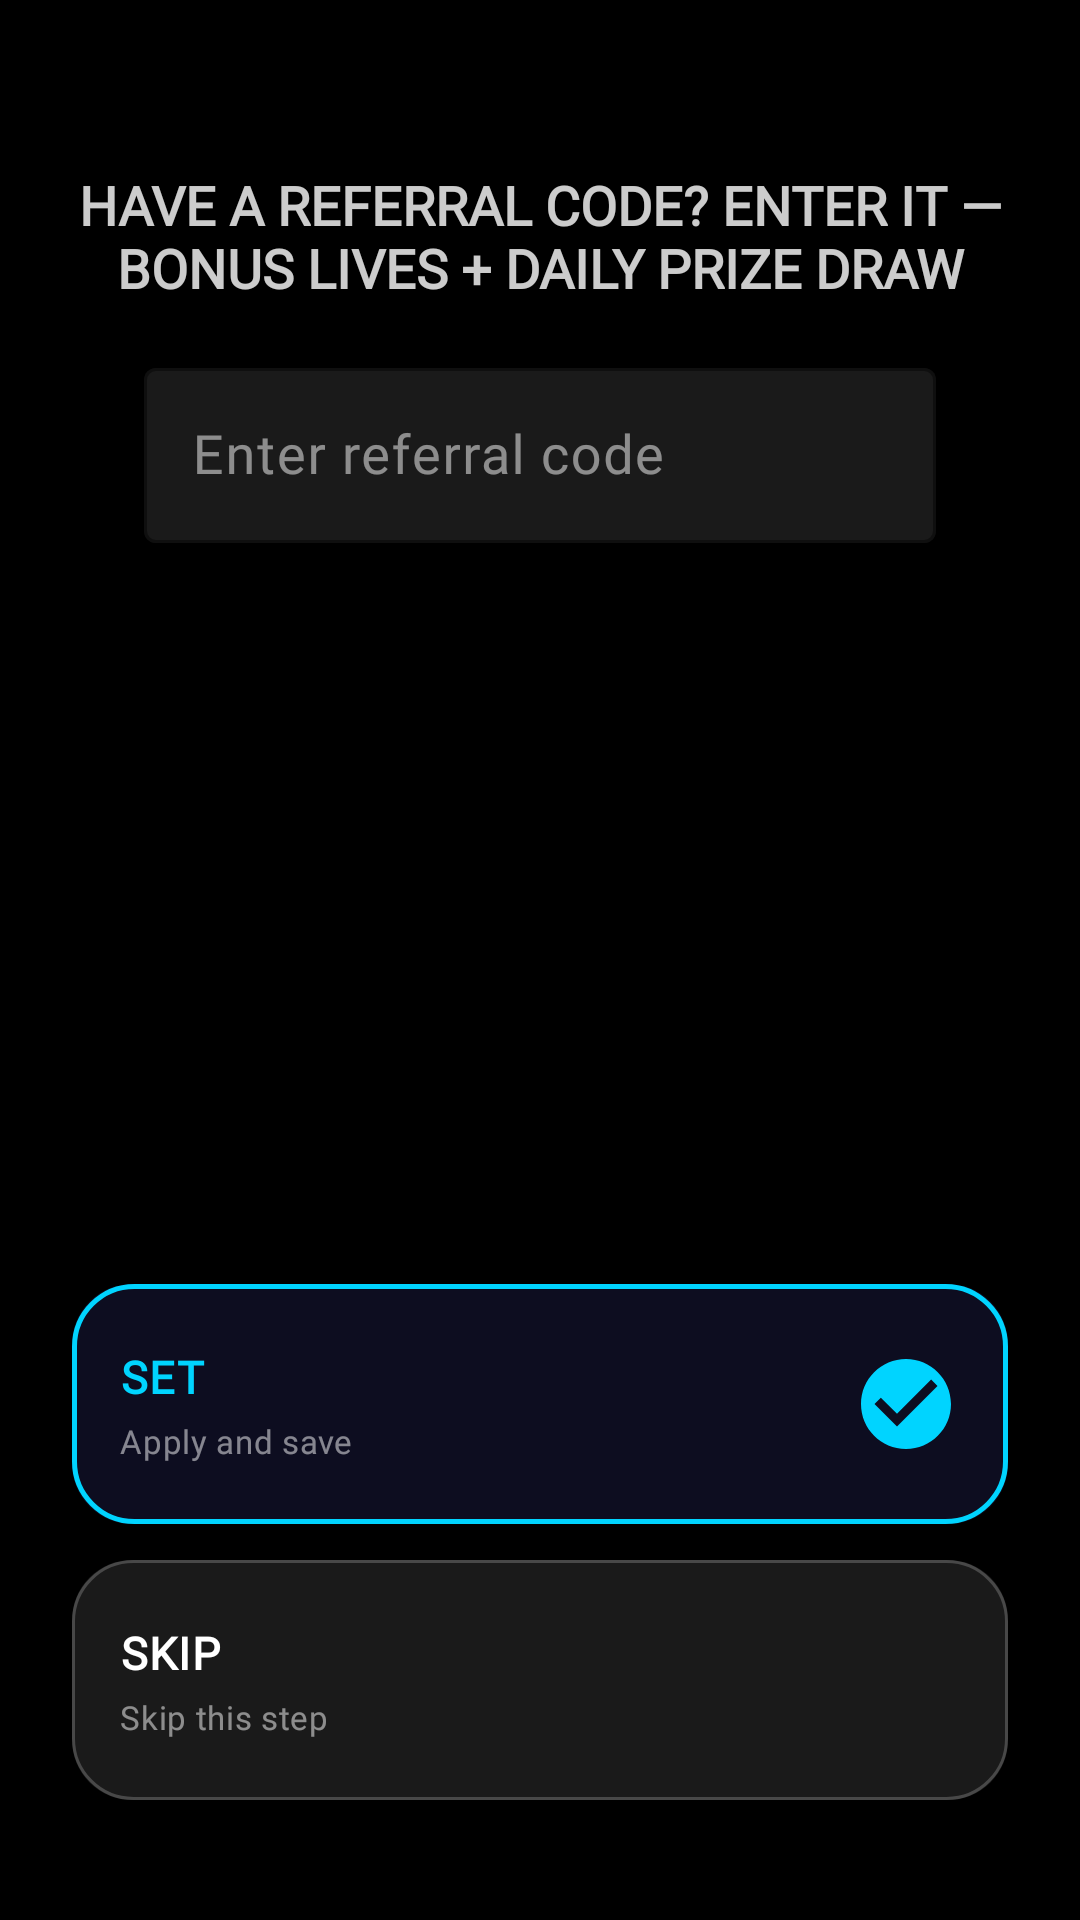

Icon bounding boxes for this 1080px x 1920px phone screenshot, format bbox(x1, y1, x2, y2):
check circle: bbox(861, 1359, 951, 1449)
